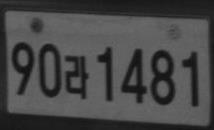0: (37, 41, 61, 98)
1: (179, 50, 205, 107), (93, 46, 119, 102)
4: (120, 47, 148, 103)
8: (149, 48, 175, 106)
9: (10, 40, 35, 95)
다: (64, 54, 89, 100)
